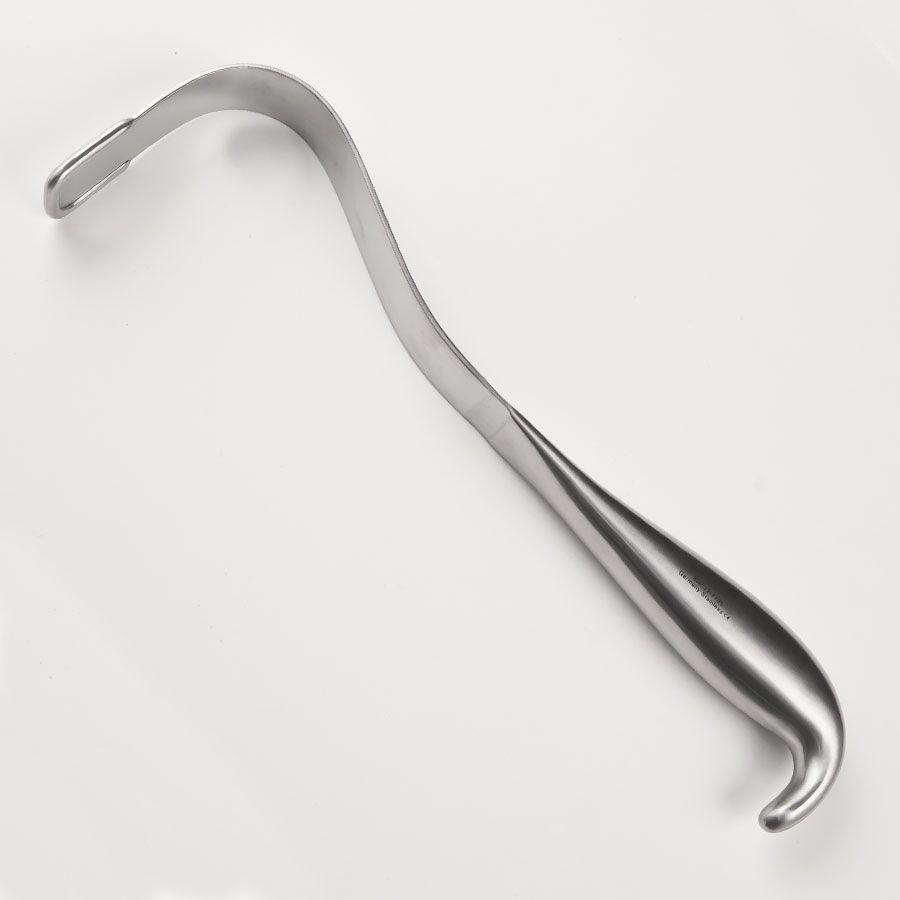Harrington Retractor: (34, 60, 864, 850)
